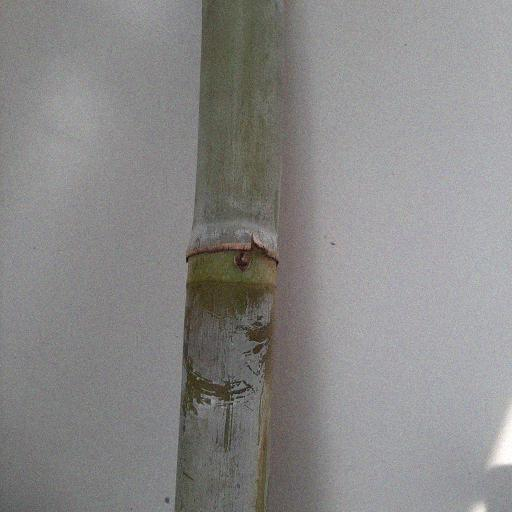Bud: (232, 249, 249, 273)
